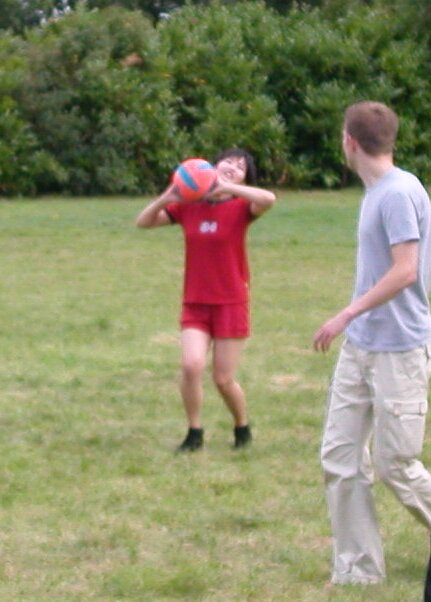person: (322, 100, 431, 594)
